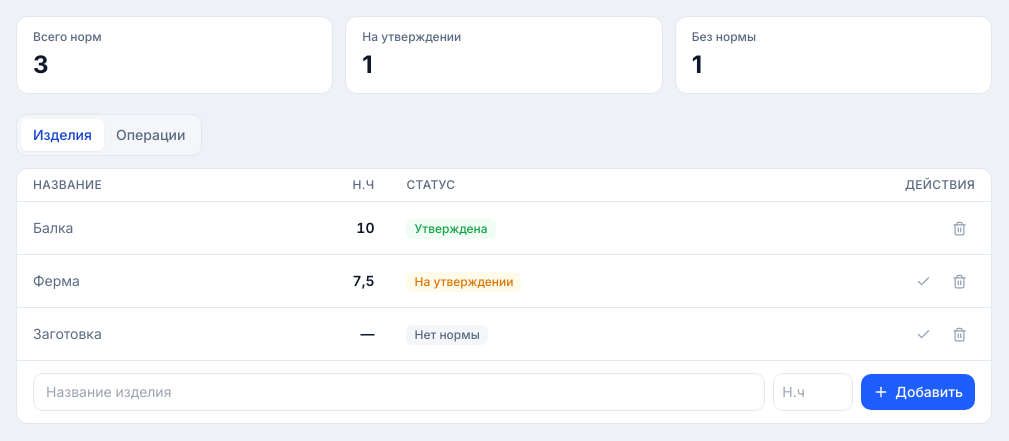
Test: NormsTable › пустой вид показывает подсказку «Норм этого вида пока нет»
Expected: the text "Балка" is shown, [17, 202, 260, 254]
Click the button "Операции" at [151, 135], box [104, 119, 197, 151]
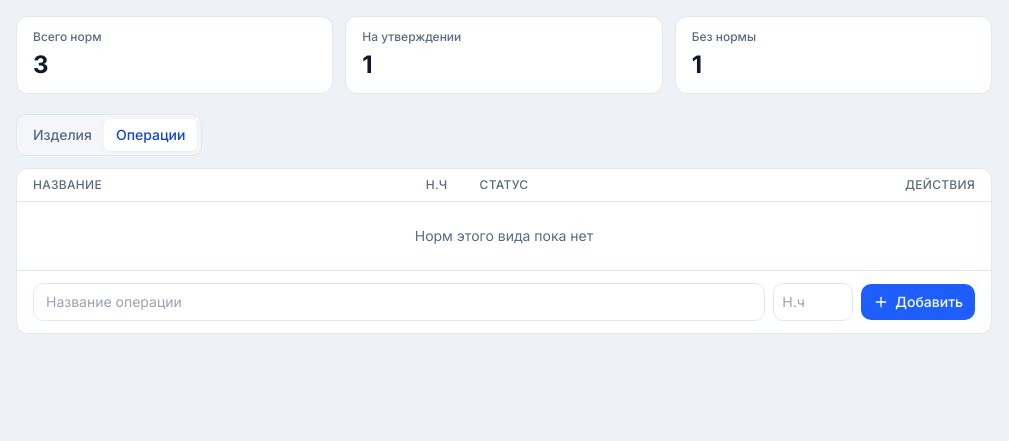
Now the text "Норм этого вида пока нет" is shown, box [17, 202, 991, 270]
